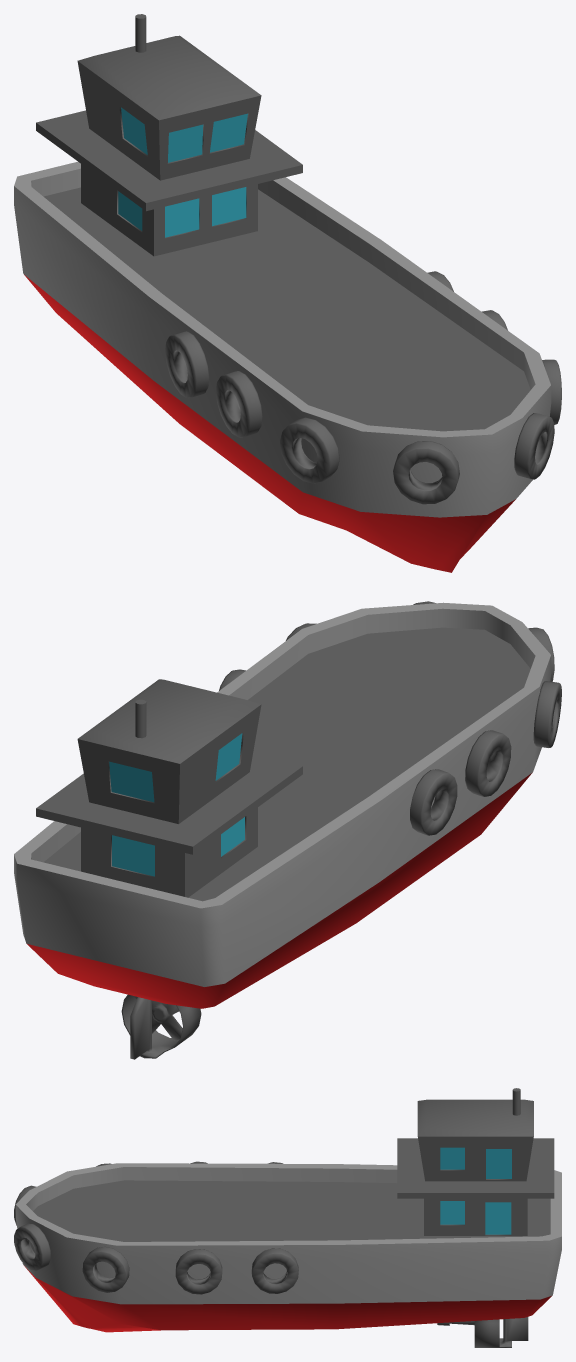
File: gemi.fbx
3 views of the same model, one above another, from view 1: azimuth 30°, elevation 25°; view 2: azimuth 150°, elevation 25°; view 3: azimuth 270°, elevation 25° (orthographic). The views are drawn at different scales.
Parts seen in each view (by area): view 1: gemi; view 2: gemi; view 3: gemi.
Part boxes in pixels (x1,y1,x2,y2): gemi: (14,14,561,572); gemi: (14,601,561,1059); gemi: (14,1088,561,1347).
Size of the model in its own units: 269 by 341 by 662.
